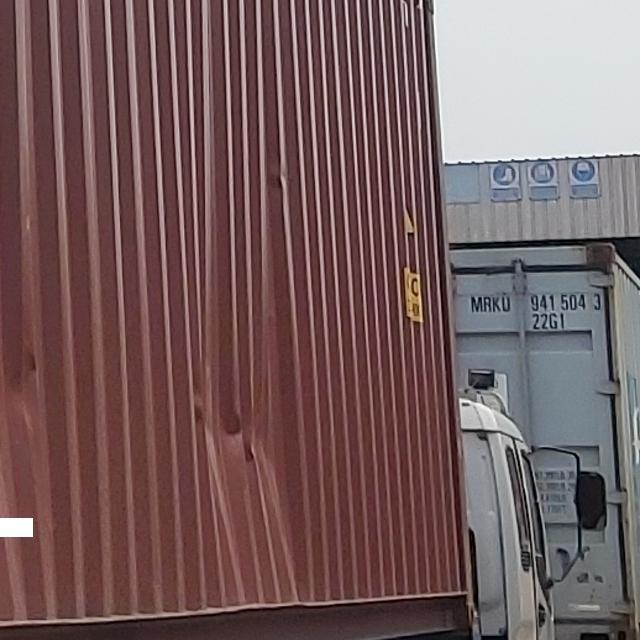dent: (196, 273, 309, 527)
